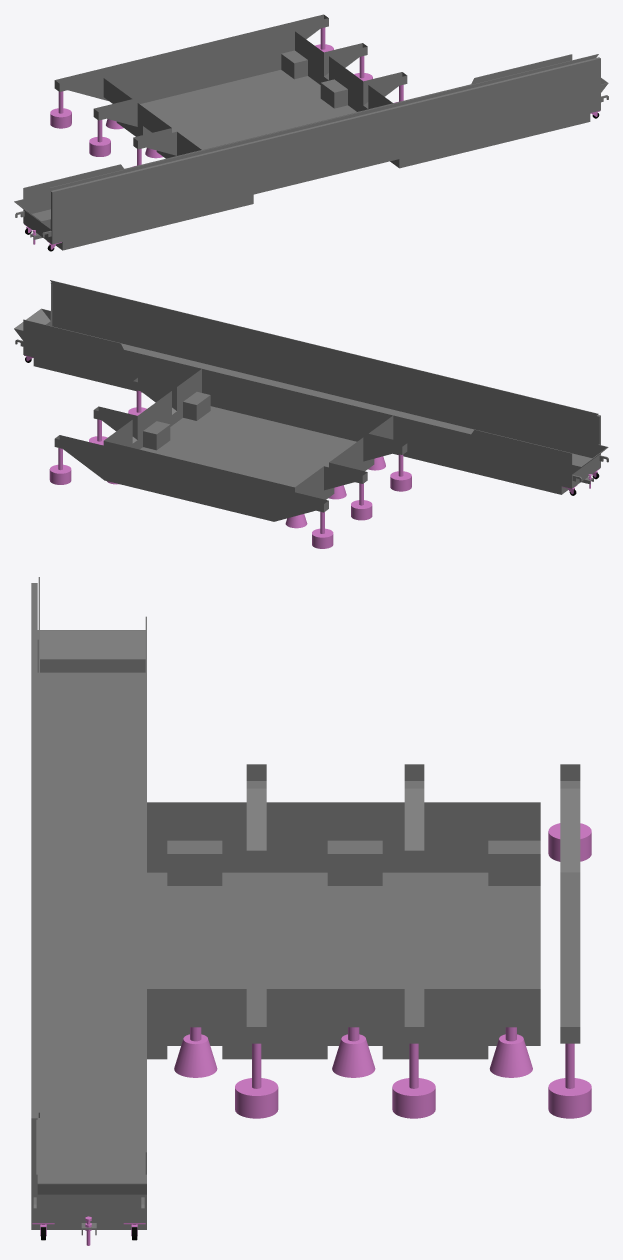
The model's file is SM_Mainbody_Support.fbx.
The picture shows the model from 3 angles, top to bottom: view 1: azimuth 30°, elevation 25°; view 2: azimuth 150°, elevation 25°; view 3: azimuth 270°, elevation 25°; orthographic projection. The views are drawn at different scales.
Visible parts, largest first — view 1: SM_Mainbody_Support; view 2: SM_Mainbody_Support; view 3: SM_Mainbody_Support.
Part boxes in pixels (bbox=[...]): SM_Mainbody_Support: bbox=[14, 14, 608, 251]; SM_Mainbody_Support: bbox=[14, 280, 608, 548]; SM_Mainbody_Support: bbox=[31, 577, 591, 1245].
Size of the model in its own units: 506 by 58.23 by 217.
